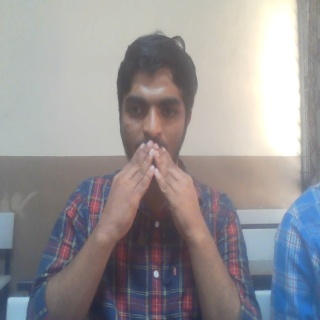Thank You: (97, 140, 210, 250)
